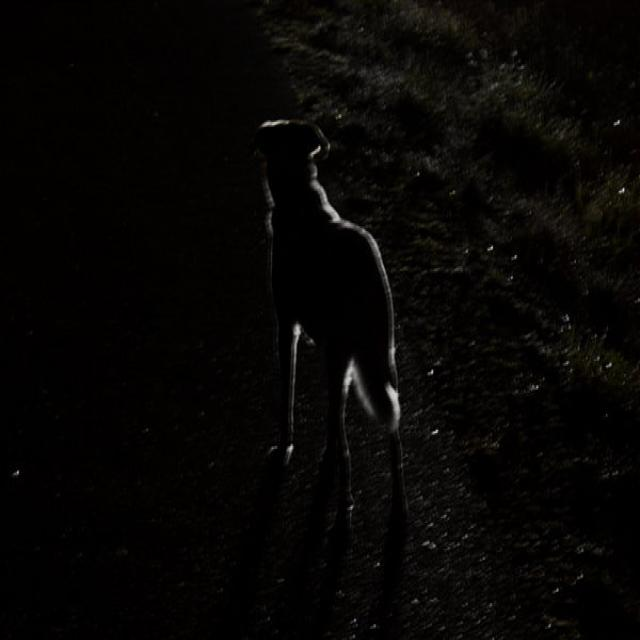Dog: (195, 96, 479, 532)
